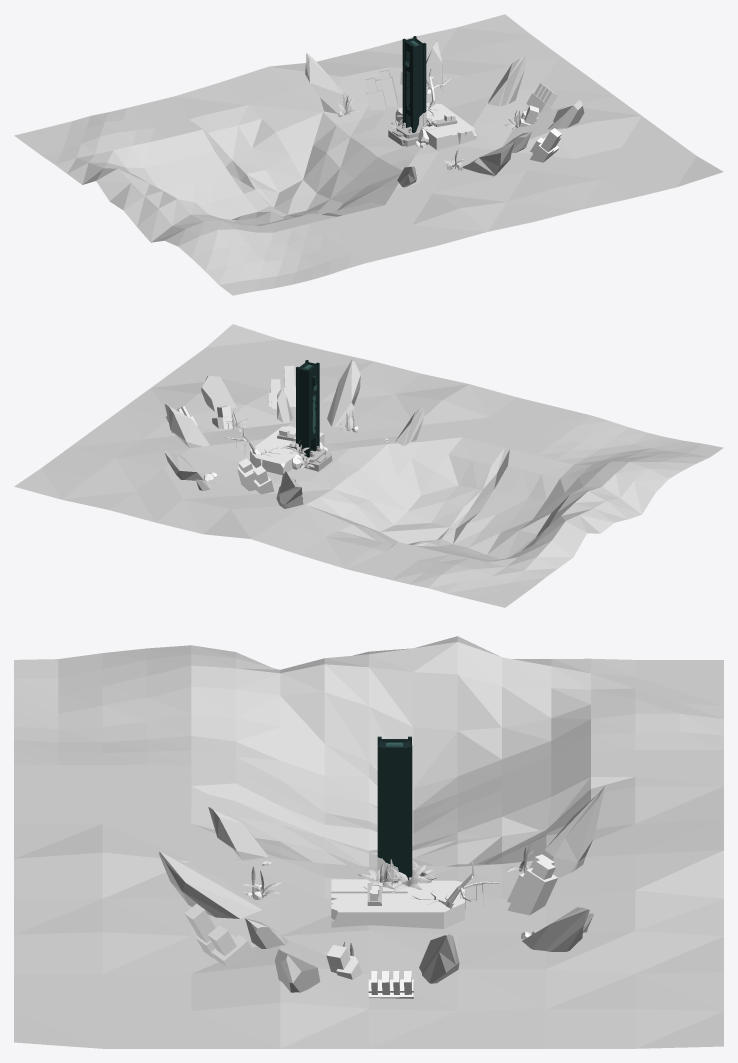
File: TowerSceneModel.fbx
3 views of the same model, one above another, from view 1: azimuth 30°, elevation 25°; view 2: azimuth 150°, elevation 25°; view 3: azimuth 270°, elevation 25° (orthographic). The views are drawn at different scales.
Parts seen in each view (by area): view 1: Plane, Tower, Garden, LowPolyRock.010, LowPolyRock.013, LowPolyRock.011, LowPolyRock.014, LowPolyRock.012, TowerGround; view 2: Plane, Tower, Garden, LowPolyRock.011, LowPolyRock.013, LowPolyRock.012, LowPolyRock.014, LowPolyRock.010, LowPolyRock.015; view 3: Plane, Garden, Tower, LowPolyRock.011, LowPolyRock.010, LowPolyRock.014, LowPolyRock.015, LowPolyRock.013, Cube.006, LowPolyRock.012, LowPolyRock.017.
Part boxes in pixels (box(x1,y1,x2,y2)): Plane: box(14, 14, 723, 295); Tower: box(402, 36, 426, 132); Garden: box(395, 103, 476, 149); LowPolyRock.010: box(305, 52, 351, 114); LowPolyRock.013: box(488, 56, 525, 106); LowPolyRock.011: box(462, 141, 514, 176); LowPolyRock.014: box(426, 40, 442, 91); LowPolyRock.012: box(547, 100, 584, 129); TowerGround: box(388, 125, 419, 146); Plane: box(14, 324, 723, 607); Tower: box(296, 360, 319, 457); Garden: box(250, 426, 324, 475); LowPolyRock.011: box(327, 359, 360, 427); LowPolyRock.013: box(164, 403, 209, 447); LowPolyRock.012: box(201, 375, 236, 411); LowPolyRock.014: box(164, 451, 209, 480); LowPolyRock.010: box(276, 471, 303, 508); LowPolyRock.015: box(394, 407, 424, 445); Plane: box(14, 636, 723, 1048); Garden: box(331, 879, 464, 928); Tower: box(377, 736, 412, 880); LowPolyRock.011: box(158, 851, 262, 918); LowPolyRock.010: box(541, 786, 605, 878); LowPolyRock.014: box(522, 907, 589, 951); LowPolyRock.015: box(208, 806, 268, 860); LowPolyRock.013: box(419, 934, 459, 983); Cube.006: box(507, 868, 557, 915); LowPolyRock.012: box(274, 949, 320, 992); LowPolyRock.017: box(245, 918, 288, 948).
Bounding box in the file's own units: 11596 × 3200 × 8946.
